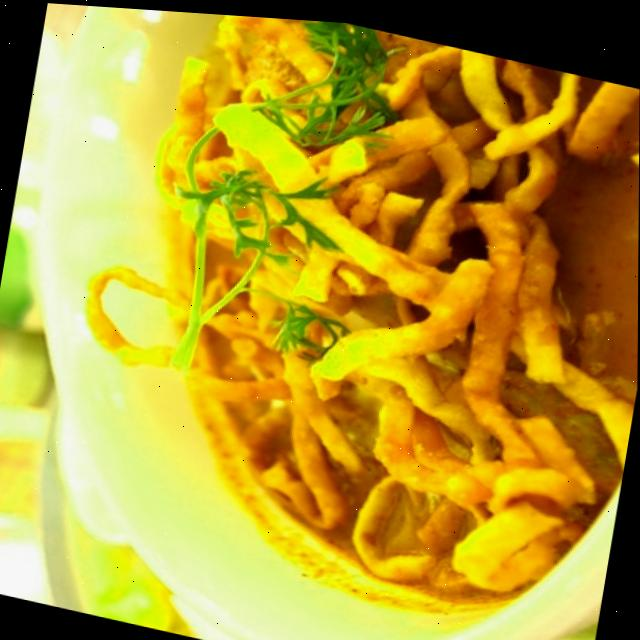面条主食: (57, 3, 640, 623)
